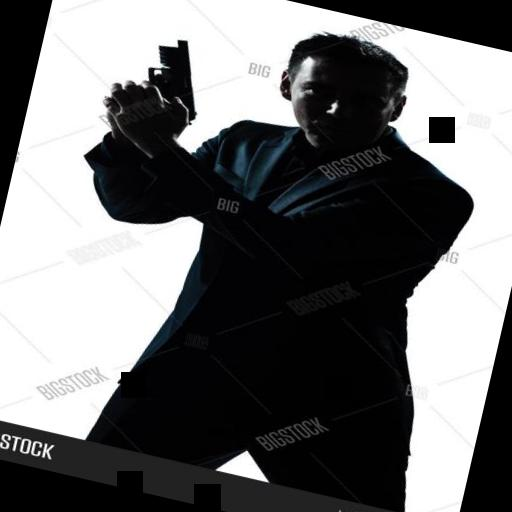Handgun: (102, 24, 219, 124)
